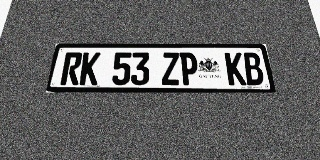3: (131, 52, 149, 85)
5: (112, 52, 132, 85)
B: (242, 52, 265, 85)
K: (79, 52, 101, 85), (224, 52, 246, 85)
P: (179, 52, 199, 85)
R: (60, 52, 83, 85)
Z: (162, 52, 180, 85)
